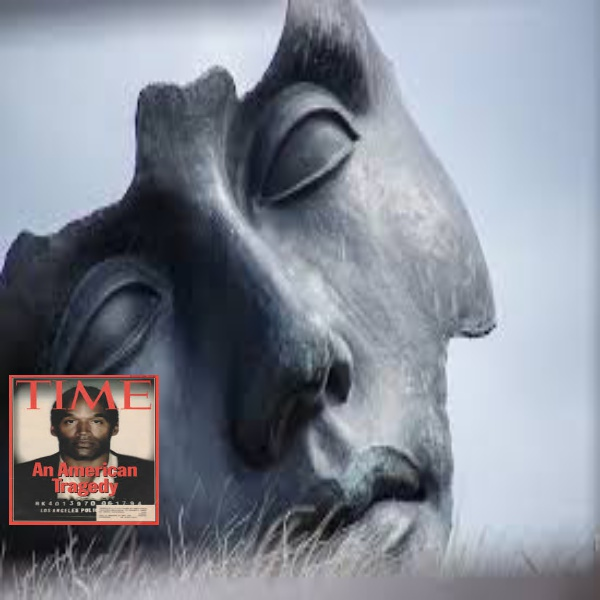time_cover: (5, 365, 166, 533)
